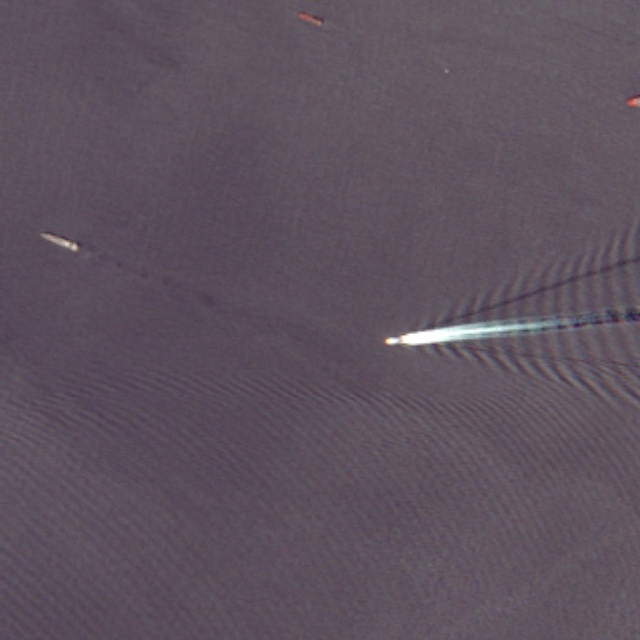wake: (365, 244, 634, 410)
